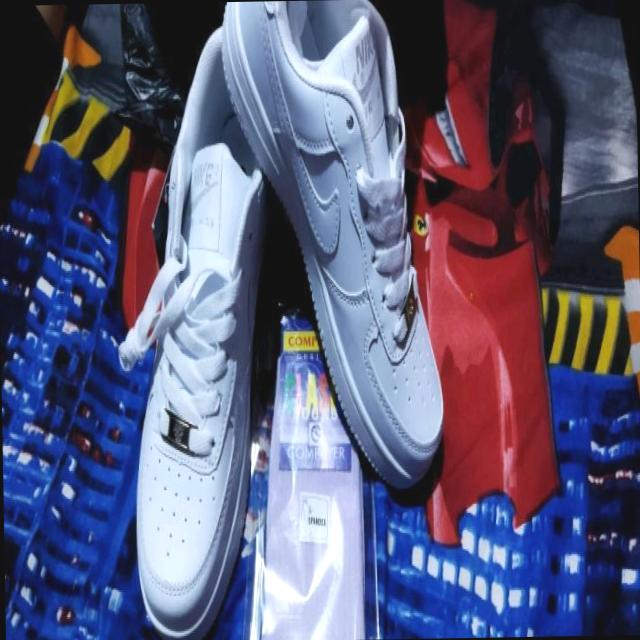nike_fake_airforce: (218, 0, 447, 498), (123, 13, 278, 640)
